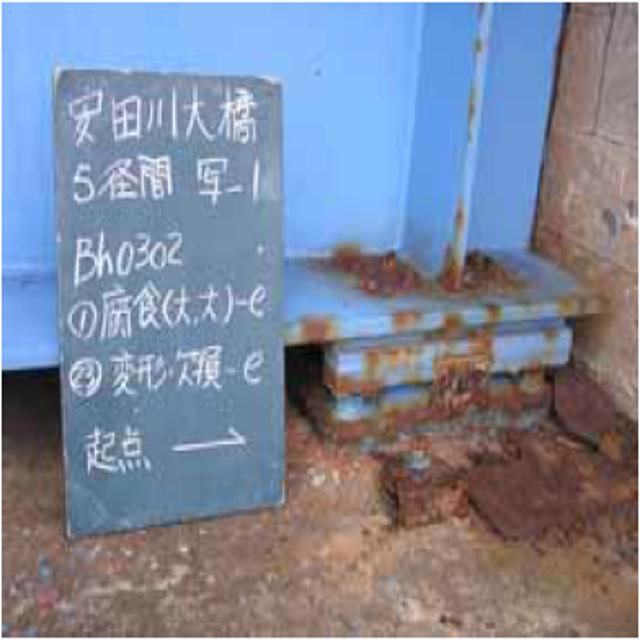corrosion: (307, 220, 629, 540)
